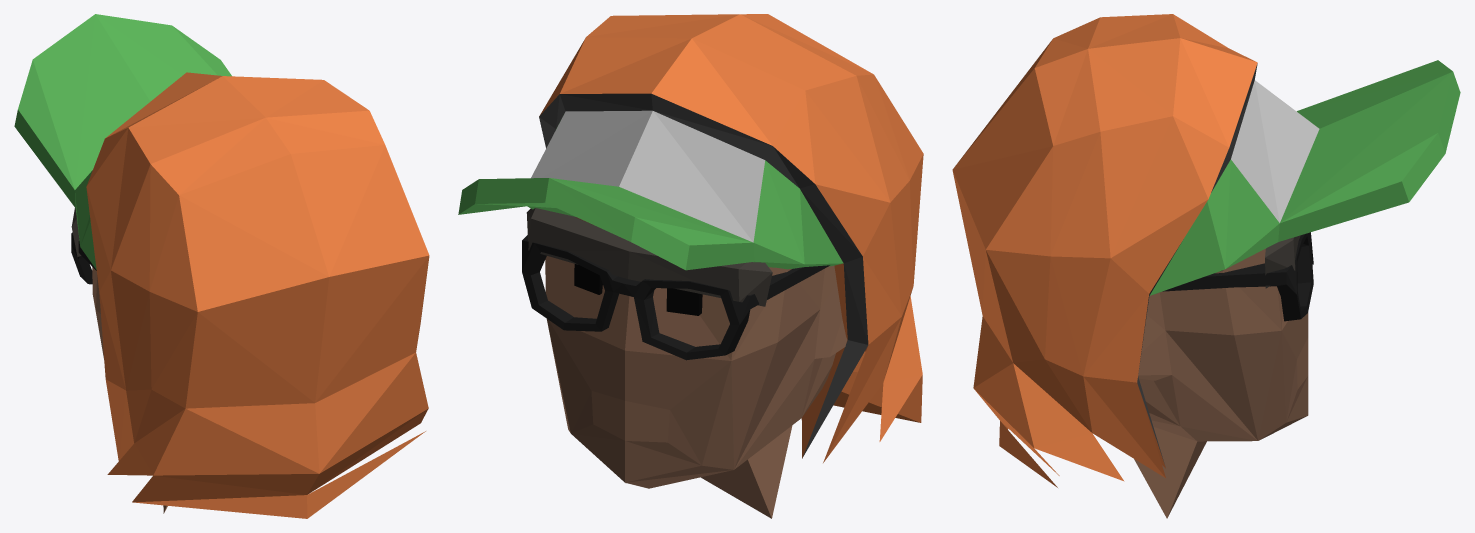
File: Son_01_Head_0_04_C.obj
3 views of the same model, side by side, from view 1: azimuth 30°, elevation 25°; view 2: azimuth 150°, elevation 25°; view 3: azimuth 270°, elevation 25° (orthographic). The views are drawn at different scales.
Parts seen in each view (by area): view 1: Son_01_Head_0_04_C; view 2: Son_01_Head_0_04_C; view 3: Son_01_Head_0_04_C.
Boxes of the visible parts, box(x1,y1,x2,y2) form: Son_01_Head_0_04_C: box(14, 14, 429, 518); Son_01_Head_0_04_C: box(458, 14, 923, 518); Son_01_Head_0_04_C: box(952, 14, 1460, 518).
Bounding box in the file's own units: 0.2947 × 0.3976 × 0.4097.
Materials: 1 (1 with a texture image).
